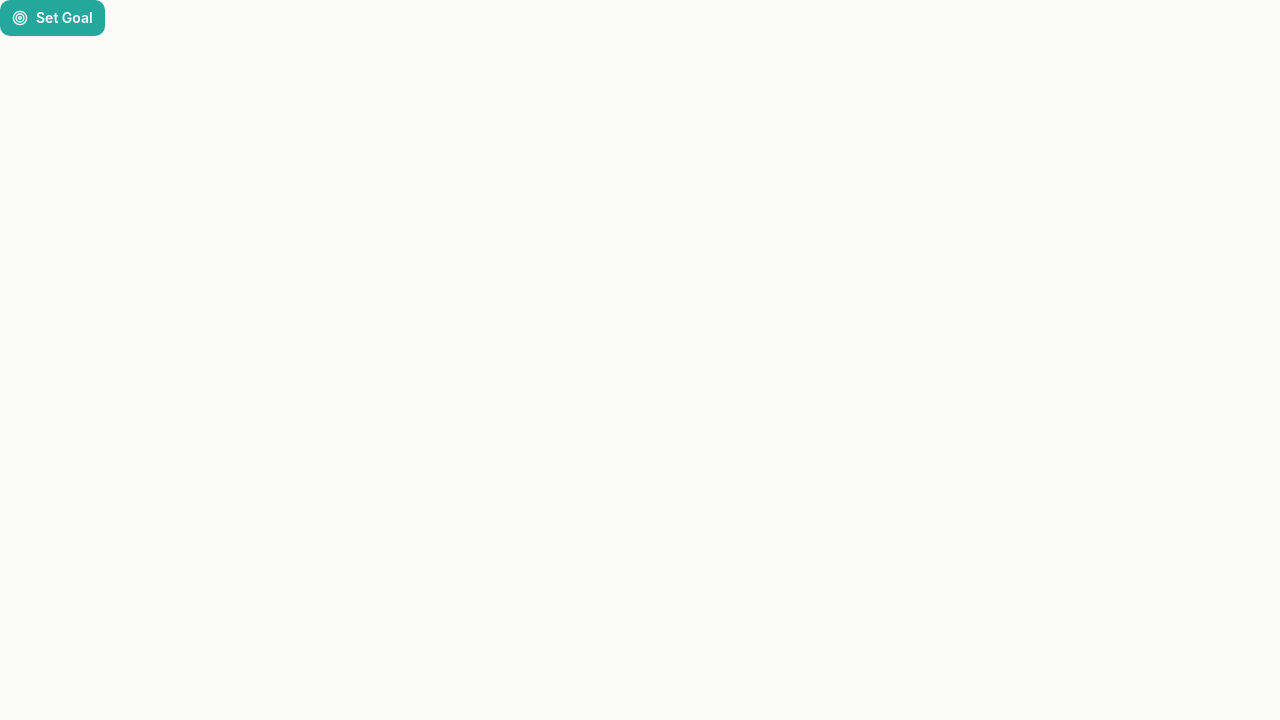
CreateSavingsGoalDialog › shows validation error for missing target amount
This screenshot has width=1280, height=720.
Click the button "Set Goal": click(52, 18) left=0, top=0, right=105, bottom=36
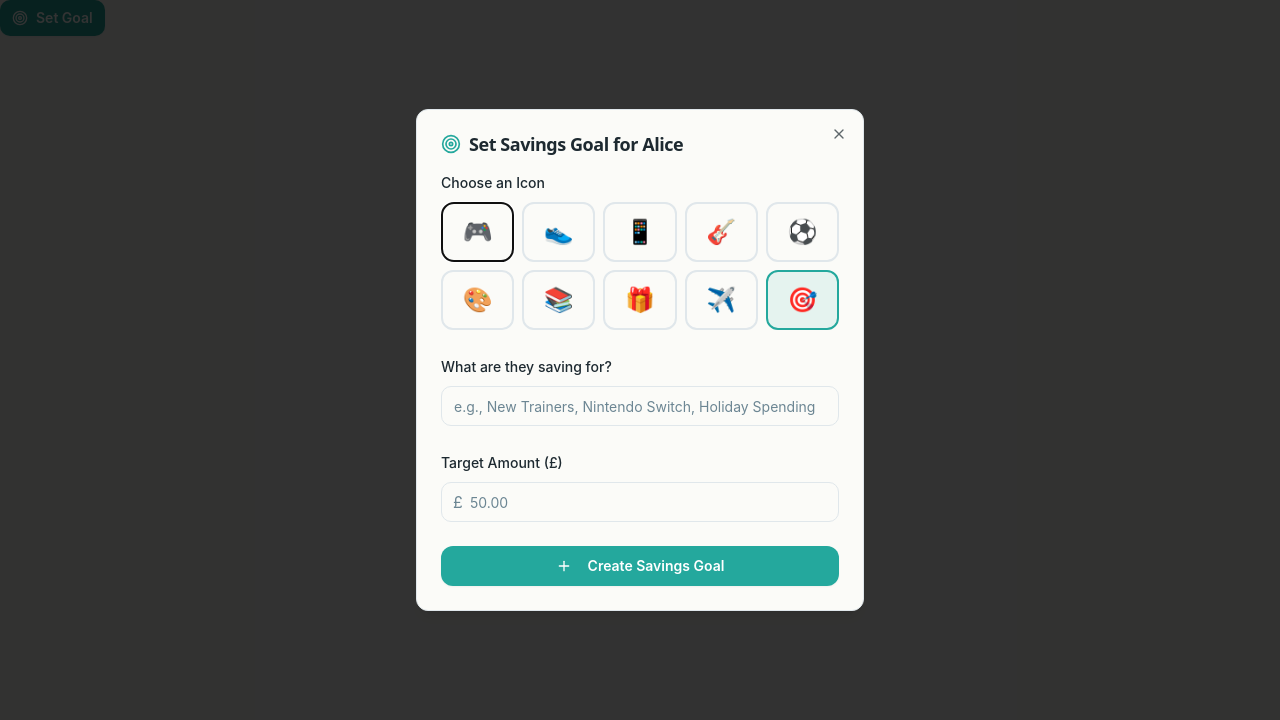
In the field labelled "What are they saving for?": (640, 406) left=441, top=386, right=839, bottom=426, type "New Trainers"
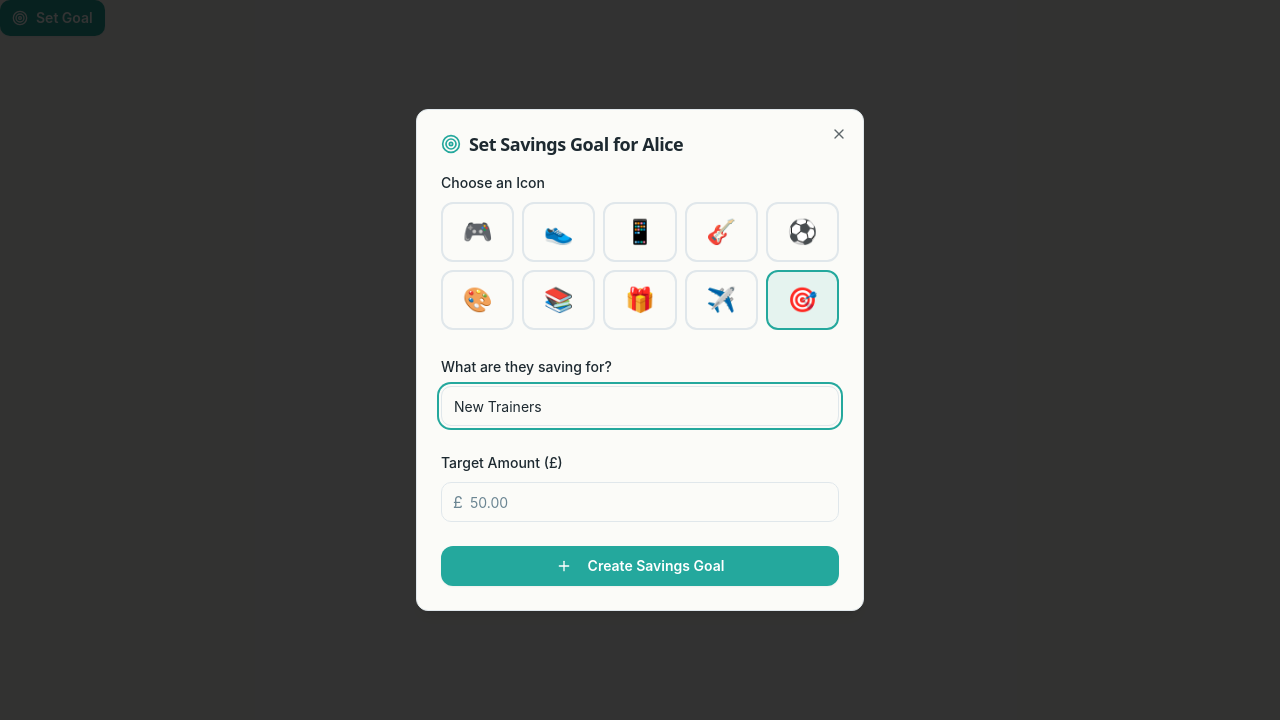
Click the button "Create Savings Goal": click(640, 566) left=441, top=546, right=839, bottom=586
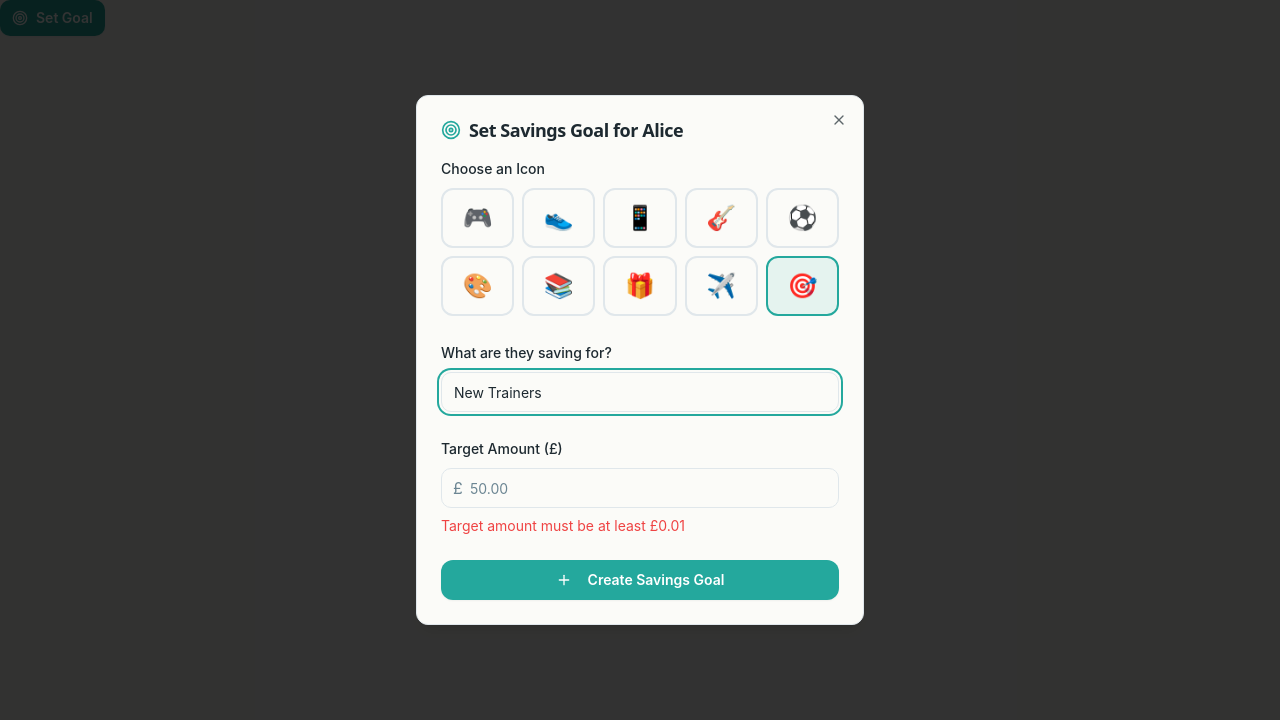
expect the text "Target amount must be at least £0.01" is shown: met, box left=441, top=517, right=685, bottom=534
